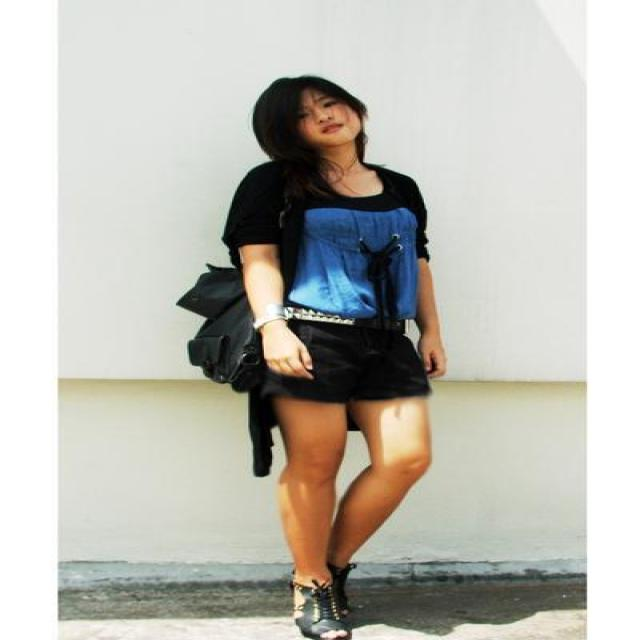bag: (176, 256, 285, 473)
shirt: (222, 162, 429, 332)
shoe: (294, 576, 364, 639)
shorts: (264, 316, 435, 404)
